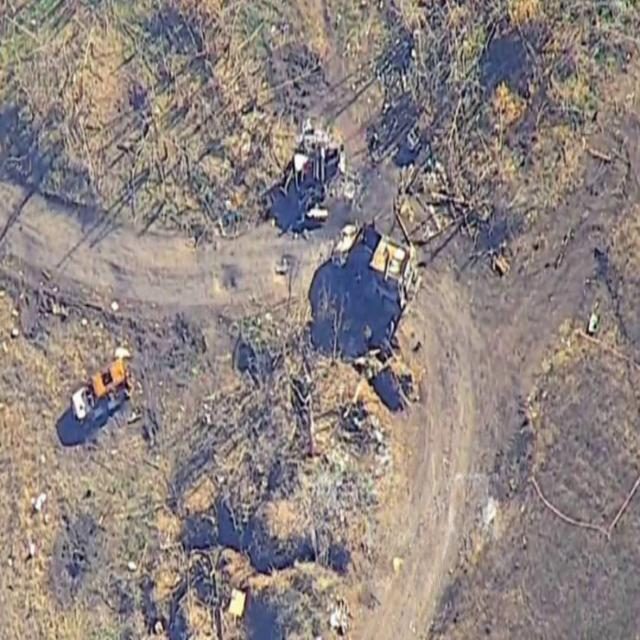Destroyed: (280, 140, 345, 215), (75, 359, 134, 432)
Vehicle: (333, 224, 422, 318)
